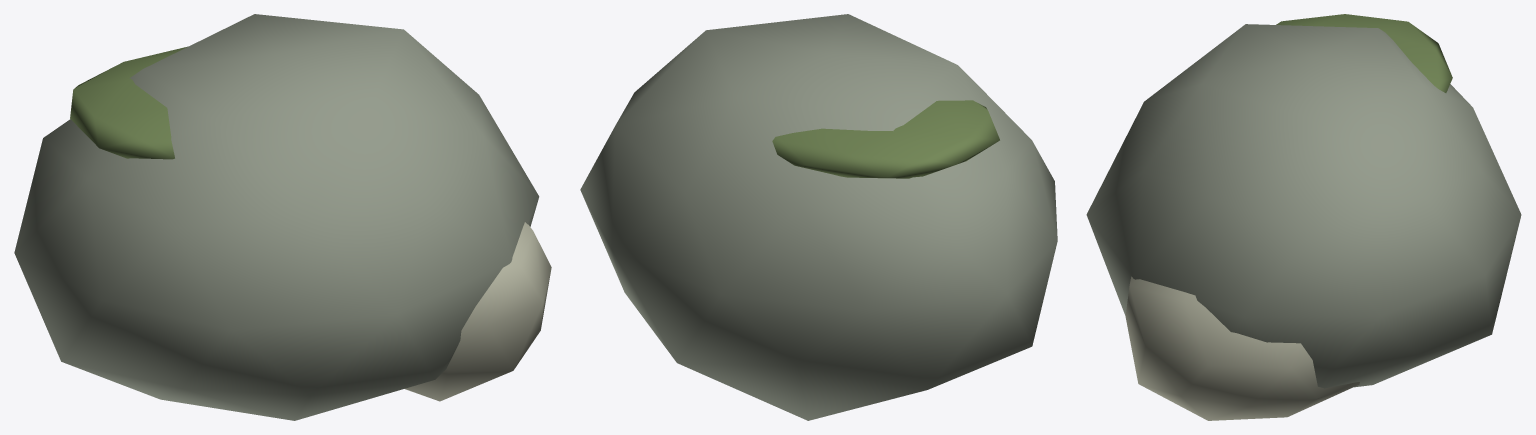
Rendered from rock.glb.
3 views of the same model, side by side, from view 1: azimuth 30°, elevation 25°; view 2: azimuth 150°, elevation 25°; view 3: azimuth 270°, elevation 25° (orthographic). The views are drawn at different scales.
Visible parts, largest first — view 1: rock_stone, rock_stone_light, rock_moss; view 2: rock_stone, rock_moss; view 3: rock_stone, rock_stone_light, rock_moss.
Part boxes in pixels (x1,y1,x2,y2): rock_stone: (14,14,539,420); rock_stone_light: (404,222,551,401); rock_moss: (70,46,187,159); rock_stone: (580,14,1057,420); rock_moss: (772,100,999,178); rock_stone: (1086,24,1521,388); rock_stone_light: (1125,276,1359,420); rock_moss: (1276,14,1452,92).
Bounding box in the file's own units: 1.2 × 0.872 × 1.08.
